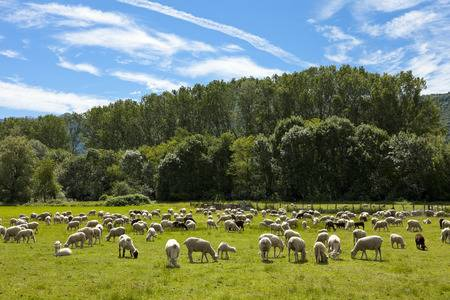sheep: (184, 237, 219, 266), (348, 236, 384, 262), (160, 238, 183, 265), (116, 233, 139, 258), (286, 237, 308, 262), (216, 241, 239, 261), (52, 240, 74, 259), (311, 242, 330, 264), (14, 228, 37, 246), (256, 237, 272, 261), (389, 232, 408, 252), (405, 217, 425, 233), (64, 232, 85, 247), (414, 232, 429, 252), (104, 225, 126, 238), (223, 219, 242, 233), (371, 219, 389, 231), (204, 218, 219, 231), (65, 220, 79, 230), (146, 226, 158, 237), (51, 214, 62, 225), (87, 208, 97, 216)
